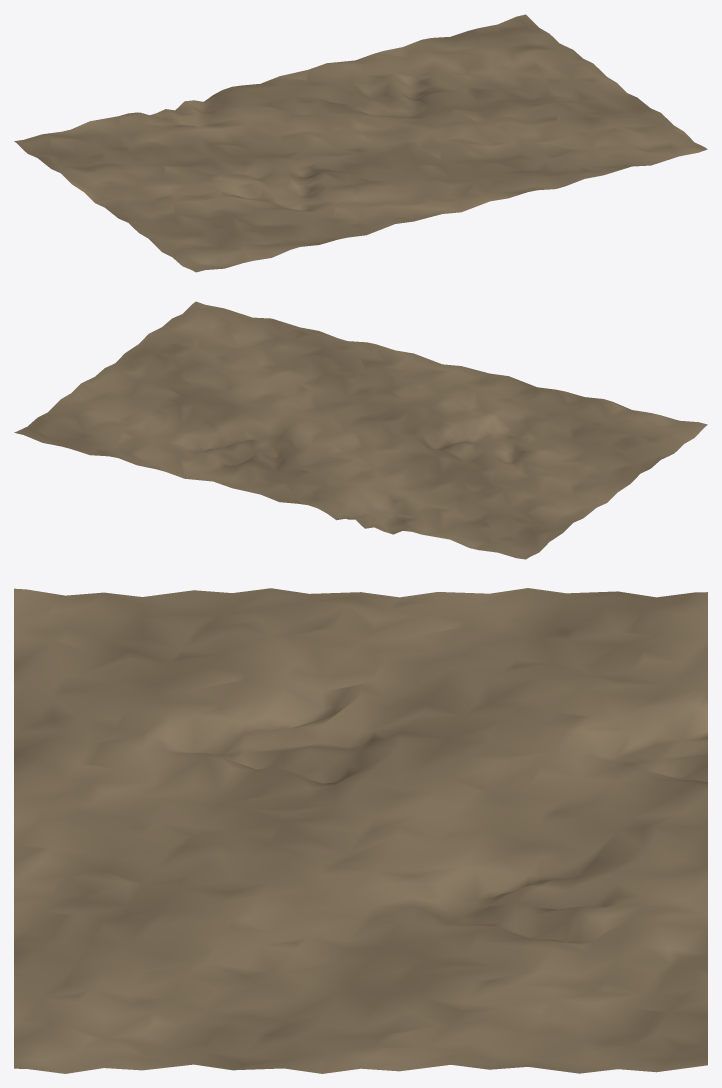
3 views of the same model, one above another, from view 1: azimuth 30°, elevation 25°; view 2: azimuth 150°, elevation 25°; view 3: azimuth 270°, elevation 25° (orthographic). The views are drawn at different scales.
Visible parts, largest first — view 1: D05_SPEC_Matrix sandstone_export; view 2: D05_SPEC_Matrix sandstone_export; view 3: D05_SPEC_Matrix sandstone_export.
Part boxes in pixels (left/top/right/bottom): D05_SPEC_Matrix sandstone_export: left=14, top=14, right=707, bottom=272; D05_SPEC_Matrix sandstone_export: left=14, top=301, right=707, bottom=559; D05_SPEC_Matrix sandstone_export: left=14, top=588, right=707, bottom=1073.
Bounding box in the file's own units: 2.6 × 0.0592 × 1.6.
